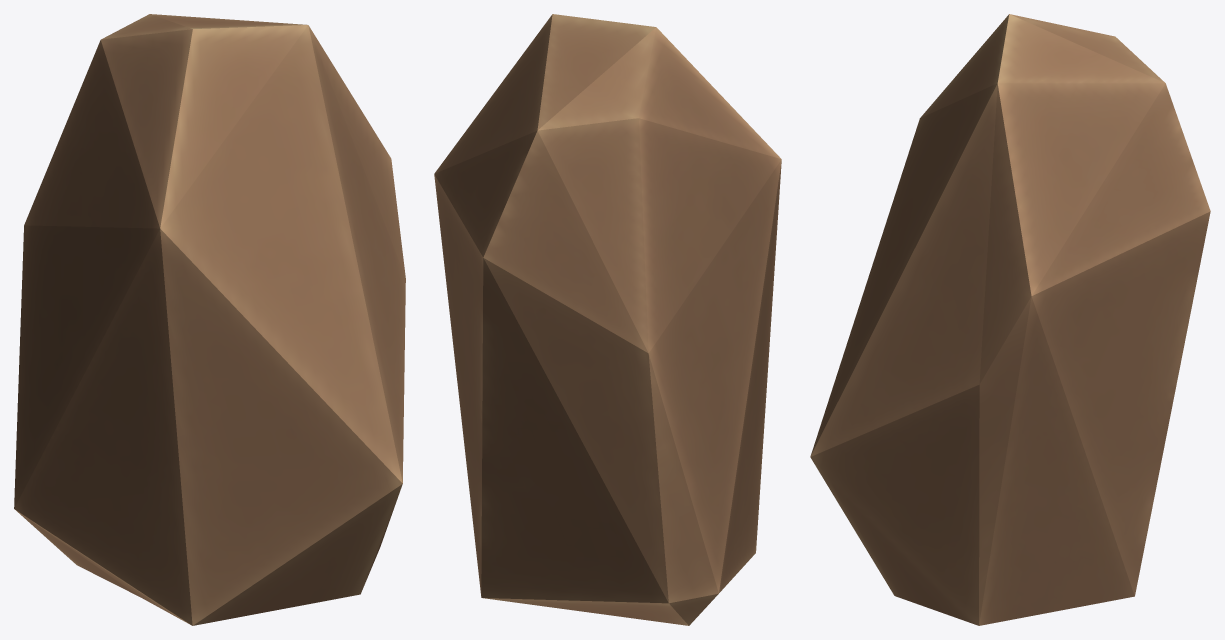
Rendered from Rock_31.fbx.
The picture shows the model from 3 angles, left to right: view 1: azimuth 30°, elevation 25°; view 2: azimuth 150°, elevation 25°; view 3: azimuth 270°, elevation 25°; orthographic projection. The views are drawn at different scales.
Parts seen in each view (by area): view 1: Rock_31; view 2: Rock_31; view 3: Rock_31.
Part boxes in pixels (x1,y1,x2,y2): Rock_31: [14, 14, 405, 625]; Rock_31: [434, 14, 781, 625]; Rock_31: [810, 14, 1210, 625].
Size of the model in its own units: 18.18 by 28.82 by 19.7.
